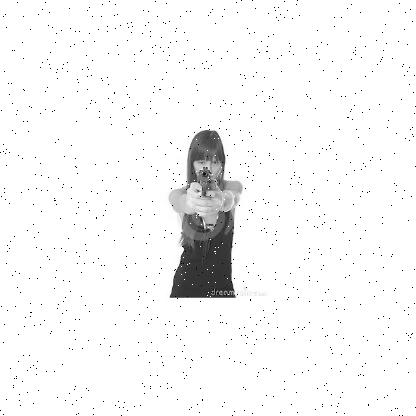gun: (192, 164, 212, 218)
